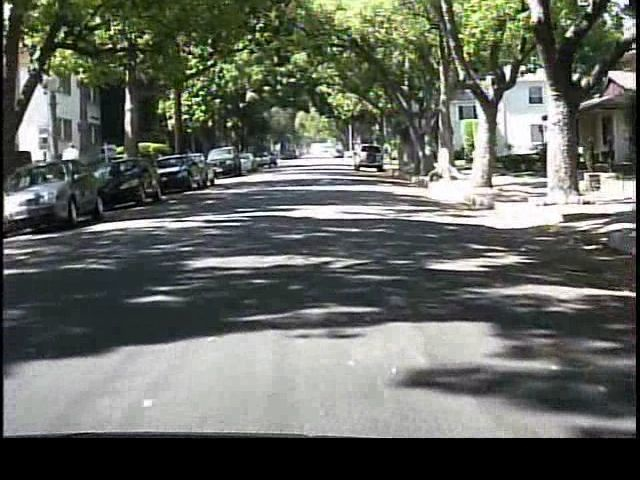person: (60, 140, 87, 199)
